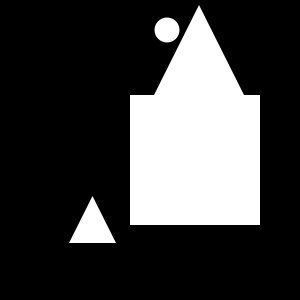circle: (130, 95, 260, 225)
rectangle: (154, 18, 179, 42)
triangle: (138, 5, 260, 127), (69, 196, 116, 243)
